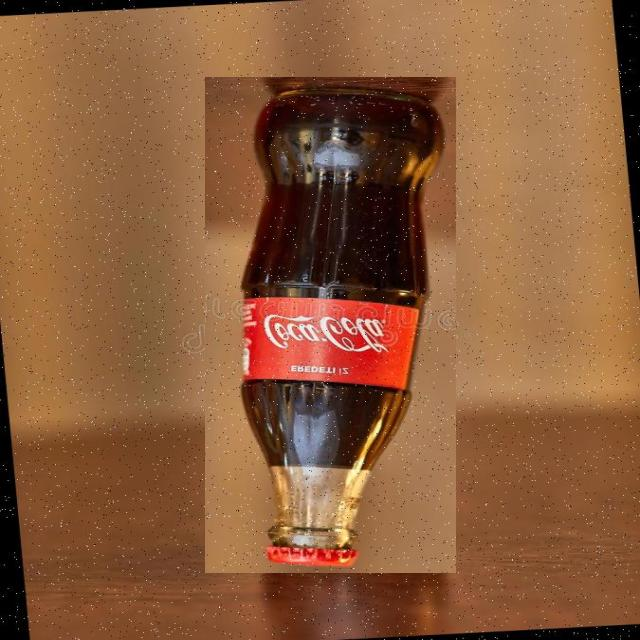coca-cola: (205, 77, 456, 573)
